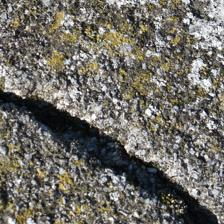Crack: (4, 44, 211, 177)
